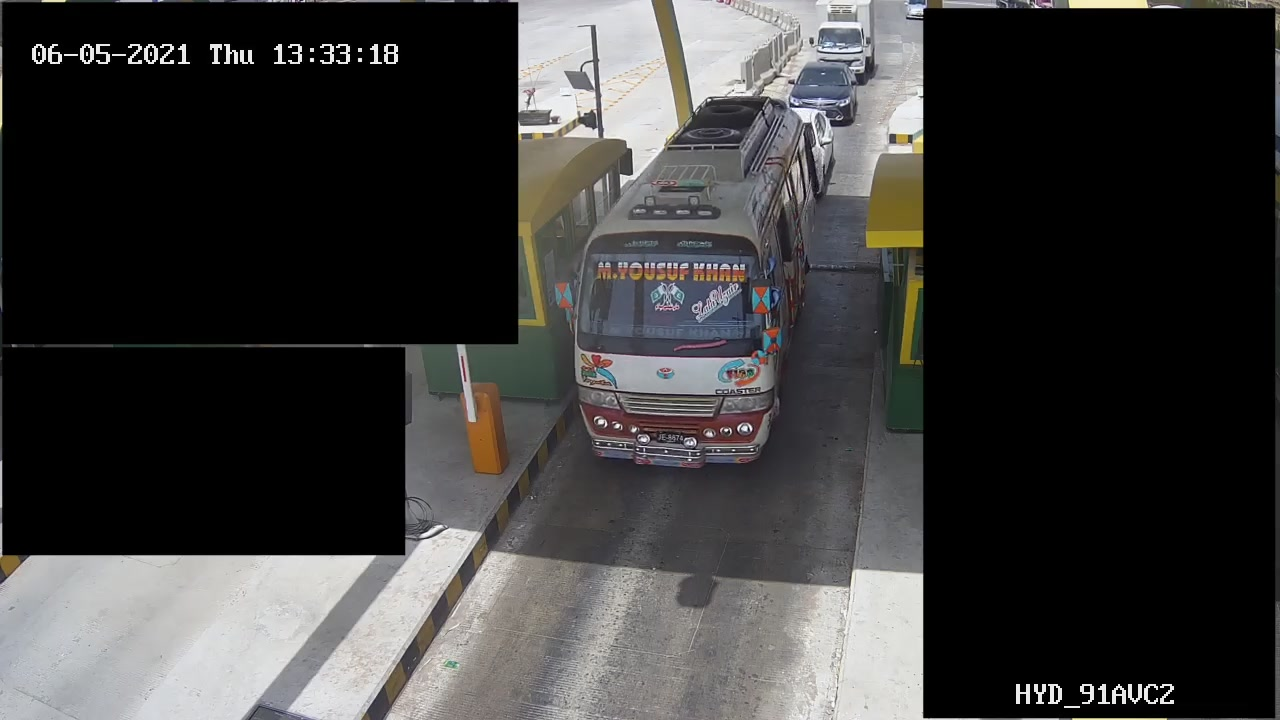F4: (563, 102, 804, 495)
